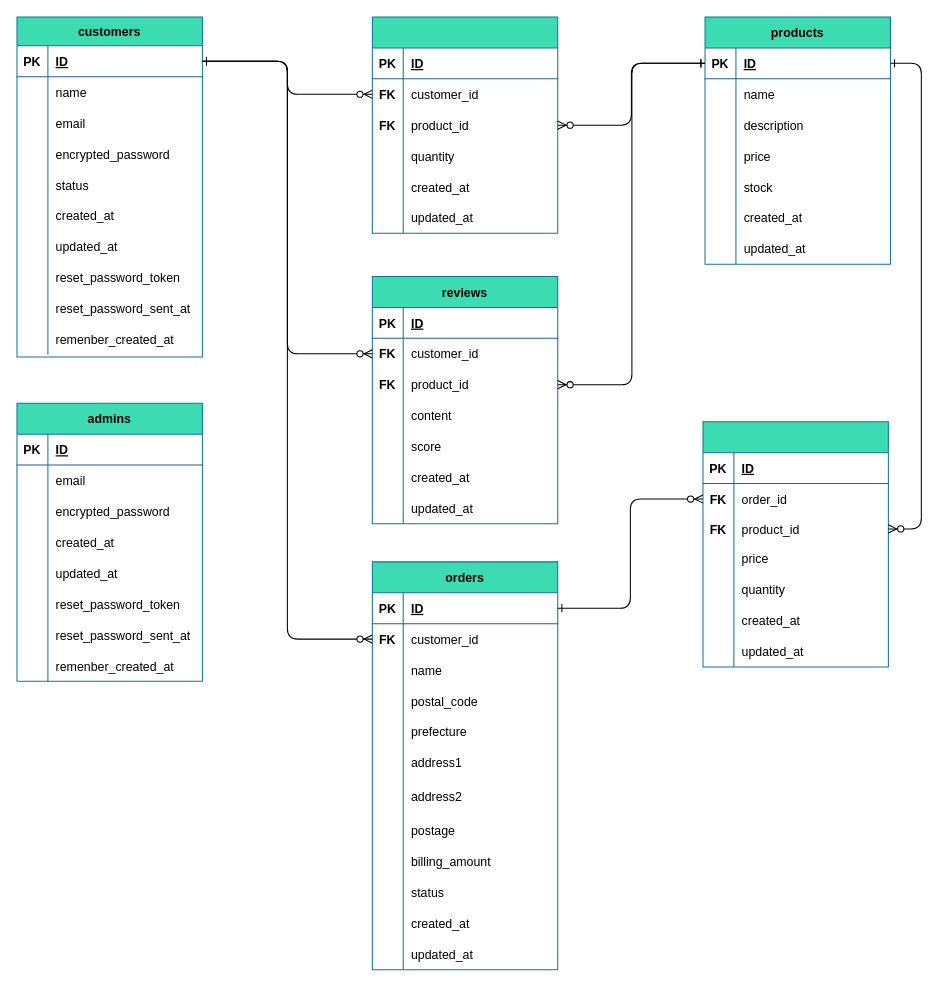
This 938x987 diagram has some shape labels left out. The box of each missing label's shape, as (x1, y1, x2, y2) in pixels:
cart_items: (371, 16, 558, 233)
order_details: (702, 421, 888, 667)
